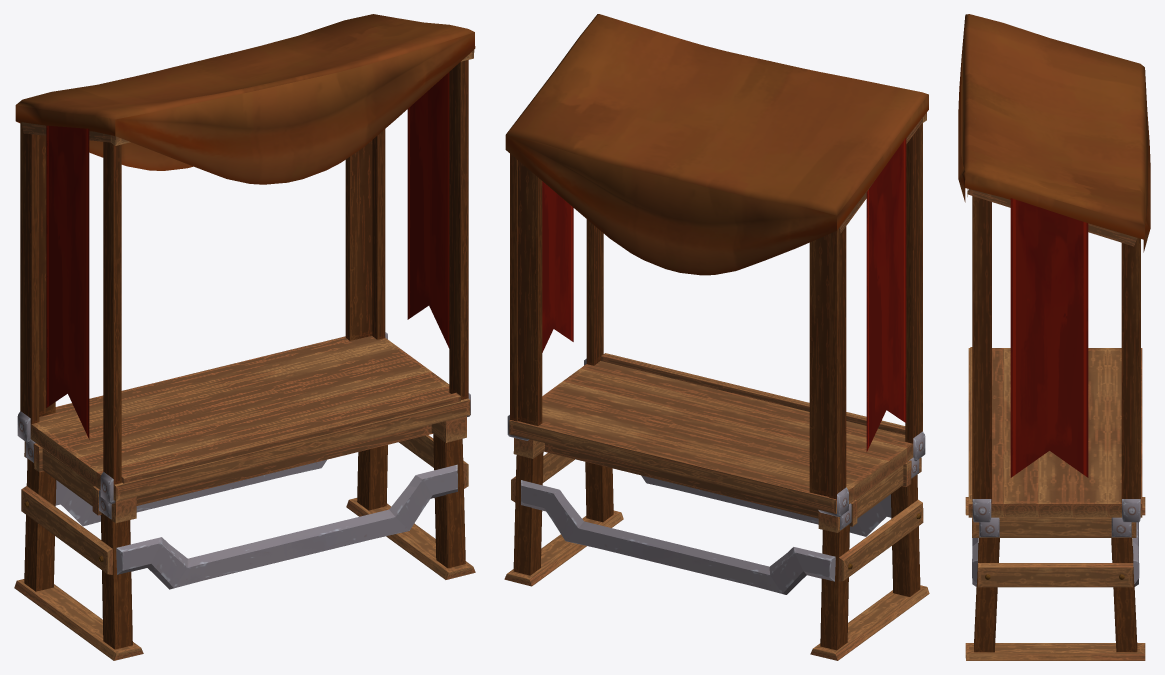
File: stall_empty.gltf
3 renders of one model, left to right at view 1: azimuth 30°, elevation 25°; view 2: azimuth 150°, elevation 25°; view 3: azimuth 270°, elevation 25°, orthographic. The views are drawn at different scales.
Parts seen in each view (by area): view 1: Stall_Empty; view 2: Stall_Empty; view 3: Stall_Empty.
Boxes of the visible parts, bbox=[...] form: Stall_Empty: bbox=[14, 14, 475, 660]; Stall_Empty: bbox=[504, 14, 929, 660]; Stall_Empty: bbox=[958, 14, 1150, 660].
Bounding box in the file's own units: 1.84 × 2.63 × 0.9323.
Materials: 3 (3 with a texture image).
